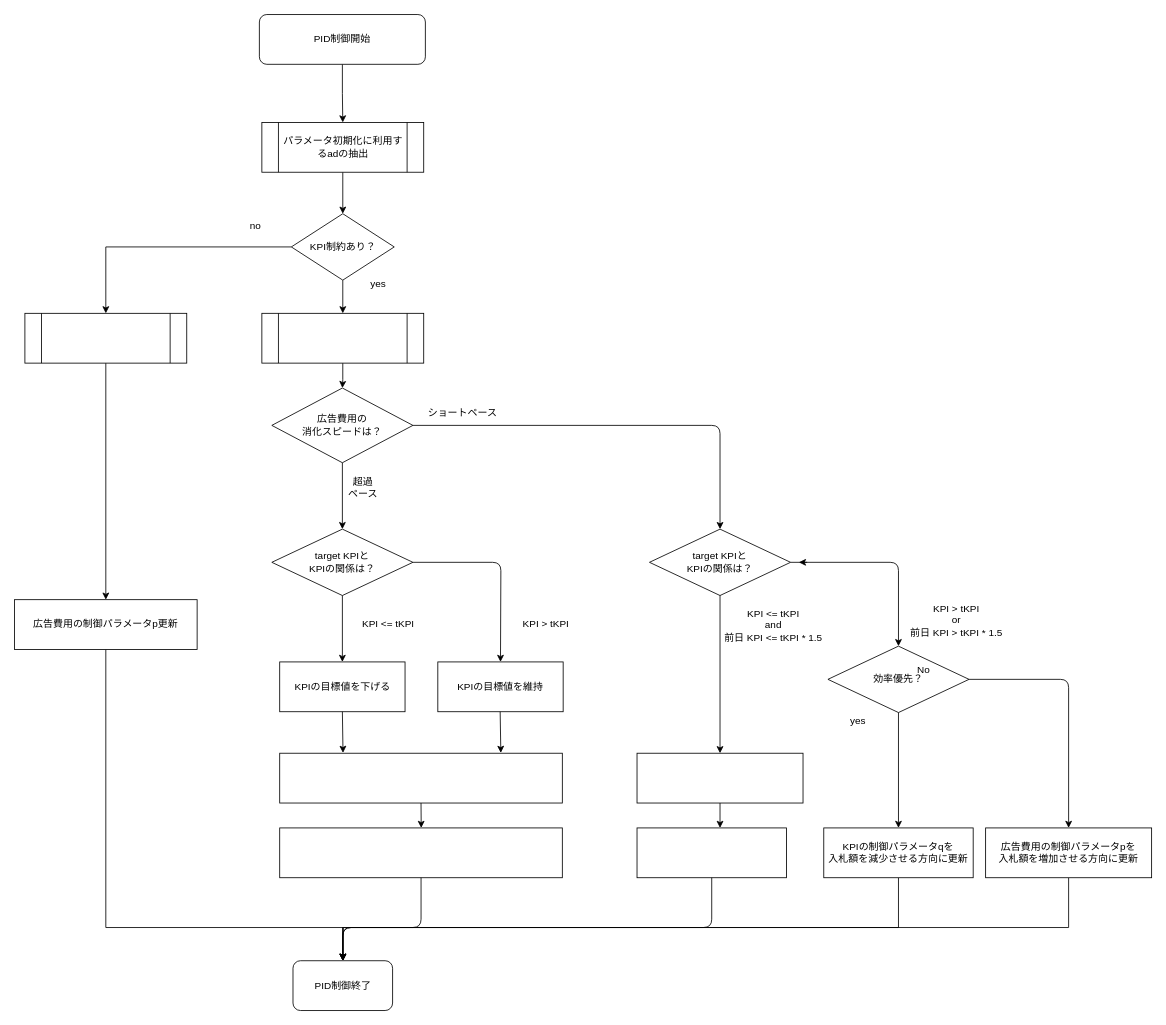
Some shapes in this 1166 by 1025 pixel diagram are drawn without their labels. The shapes that lost their labels are listed below. From the top down, each one's centre as x and y in pixels, then its label:
At point 105,337: "制御パラメータp の初期化".
At point 342,337: "制御パラメータ(p, q) の初期化".
At point 420,777: "広告費用の制御パラメータpを 入札額を減少させる方向に更新".
At point 719,777: "広告費用の制御パラメータpを入札額を増加させる方向に更新".
At point 420,852: "KPIの制御パラメータqを目標値に追従するように更新".
At point 711,852: "KPIの制御パラメータqを 入札額を増加させる方向に更新".
